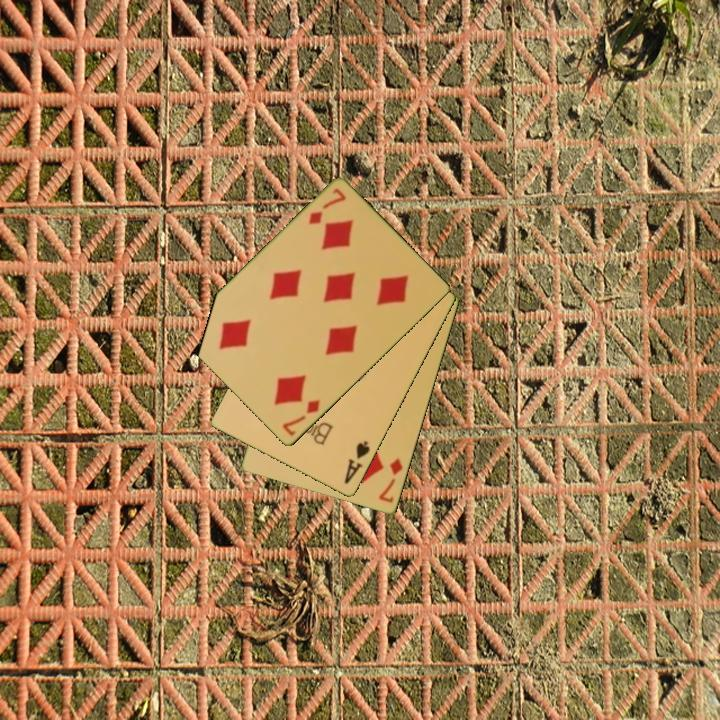7d: (279, 396, 323, 440), (305, 185, 349, 228), (375, 455, 406, 506)
As: (341, 438, 373, 487)
